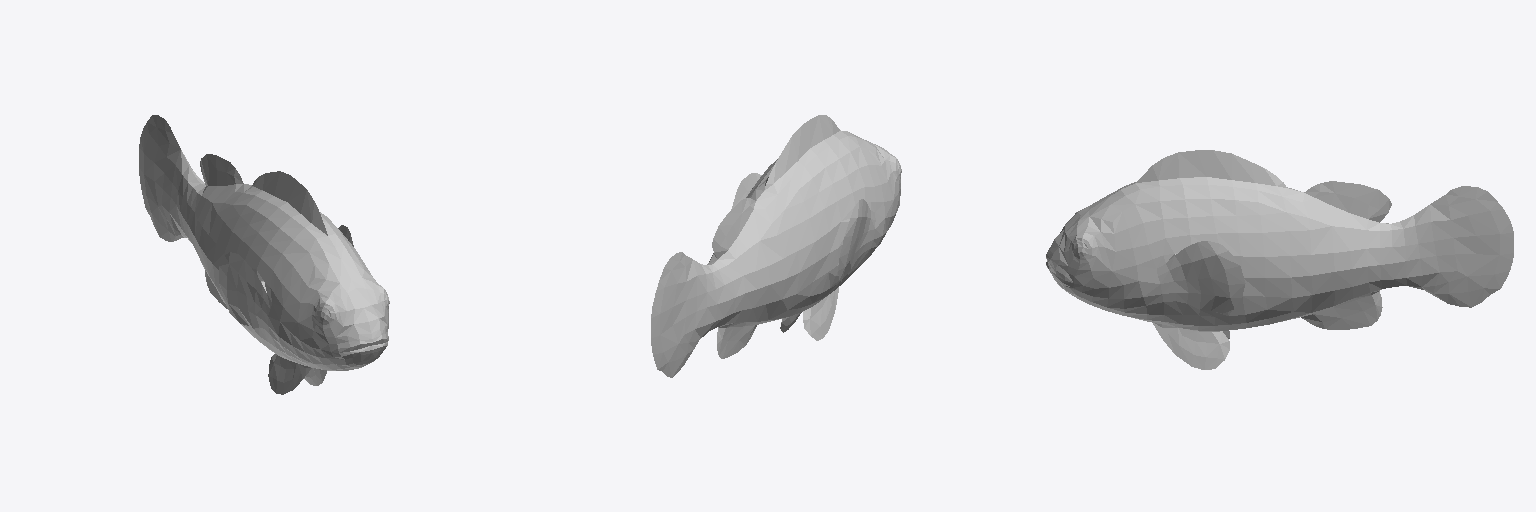
File: ปลาการ์ตูน.obj
3 views of the same model, side by side, from view 1: azimuth 30°, elevation 25°; view 2: azimuth 150°, elevation 25°; view 3: azimuth 270°, elevation 25° (orthographic).
Visible parts, largest first — view 1: defaultMaterial; view 2: defaultMaterial; view 3: defaultMaterial.
Part boxes in pixels (bbox=[...]): defaultMaterial: bbox=[139, 115, 389, 394]; defaultMaterial: bbox=[651, 115, 901, 377]; defaultMaterial: bbox=[1046, 150, 1513, 369].
Bounding box in the file's own units: 0.5743 × 0.9974 × 2.